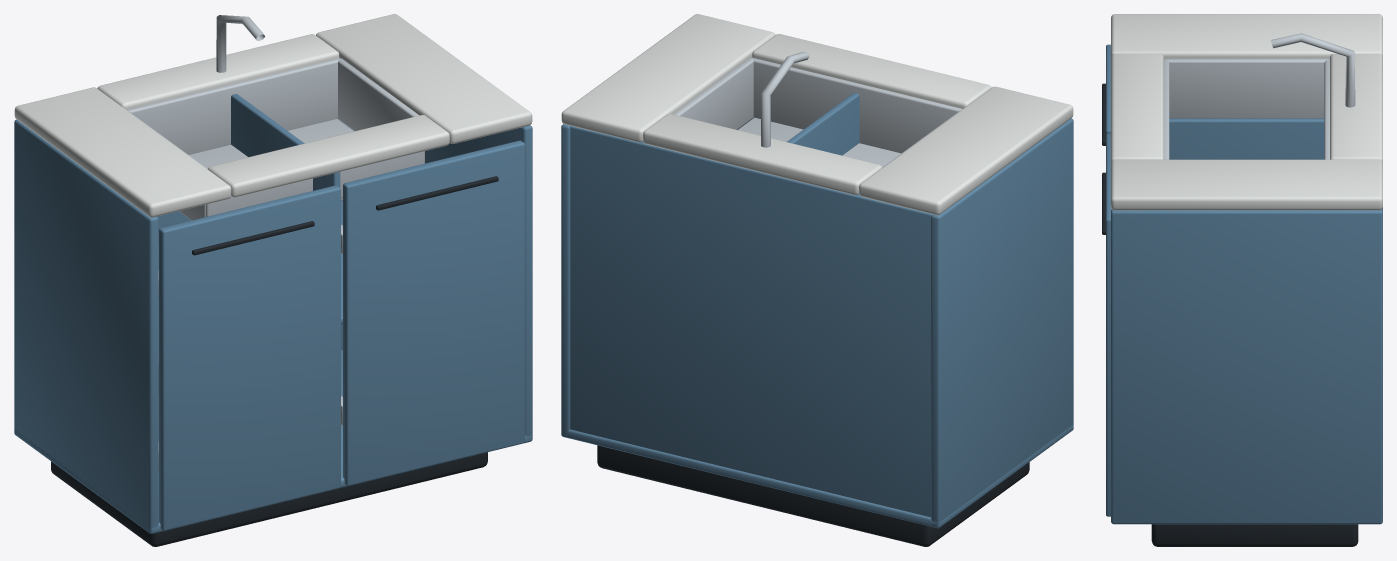
File: sink-cabinet.glb
3 renders of one model, left to right at view 1: azimuth 30°, elevation 25°; view 2: azimuth 150°, elevation 25°; view 3: azimuth 270°, elevation 25°, orthographic.
Parts seen in each view (by area): view 1: recessed_toe_kick; view 2: recessed_toe_kick; view 3: recessed_toe_kick.
Part boxes in pixels (left/top/right/bottom): recessed_toe_kick: left=14, top=14, right=532, bottom=546; recessed_toe_kick: left=561, top=14, right=1073, bottom=546; recessed_toe_kick: left=1102, top=14, right=1382, bottom=546.
Size of the model in its own units: 1 by 1.09 by 0.64.
